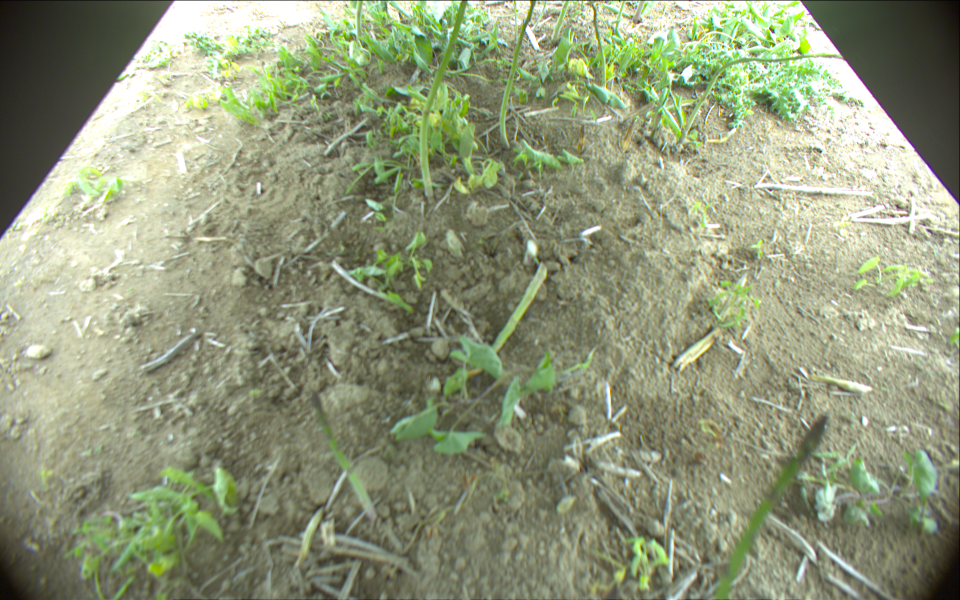aspa: (714, 413, 826, 600), (677, 51, 844, 147), (449, 262, 552, 379), (420, 1, 467, 200), (308, 389, 376, 522), (499, 1, 536, 149), (388, 1, 473, 48), (587, 1, 608, 93), (553, 1, 569, 45), (356, 1, 364, 46), (614, 1, 624, 33), (634, 1, 645, 22)
